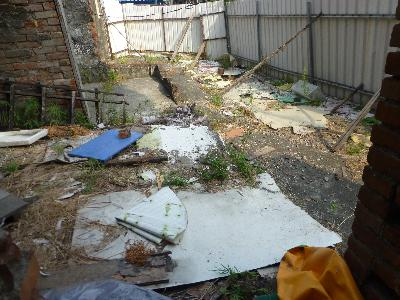plate: (1, 127, 48, 148)
